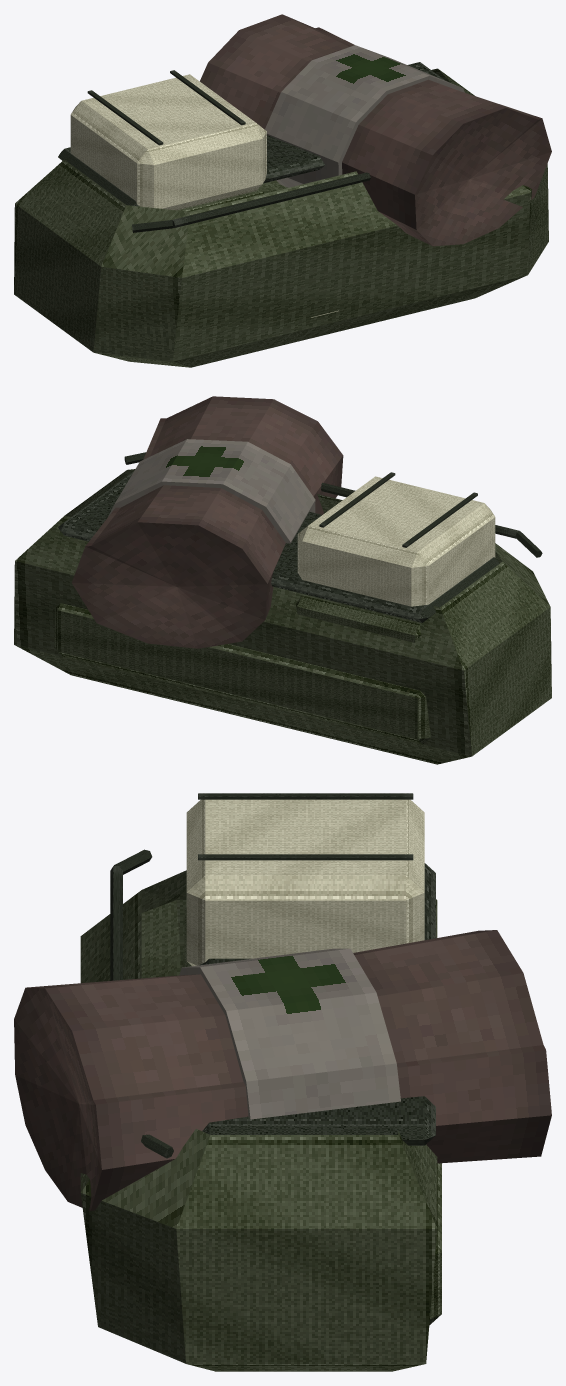
Rendered from blender_health_supplies_2_open.glb.
3 renders of one model, top to bottom at view 1: azimuth 30°, elevation 25°; view 2: azimuth 150°, elevation 25°; view 3: azimuth 270°, elevation 25°, orthographic. The views are drawn at different scales.
Parts seen in each view (by area): view 1: blender_health_supplies_2_open; view 2: blender_health_supplies_2_open; view 3: blender_health_supplies_2_open.
Boxes of the visible parts, x1,y1,x2,y2 form: blender_health_supplies_2_open: (14,14,551,367); blender_health_supplies_2_open: (14,396,551,764); blender_health_supplies_2_open: (14,793,551,1371).
Size of the model in its own units: 0.21 by 0.0955 by 0.1423.
Materials: 5 (5 with a texture image).
